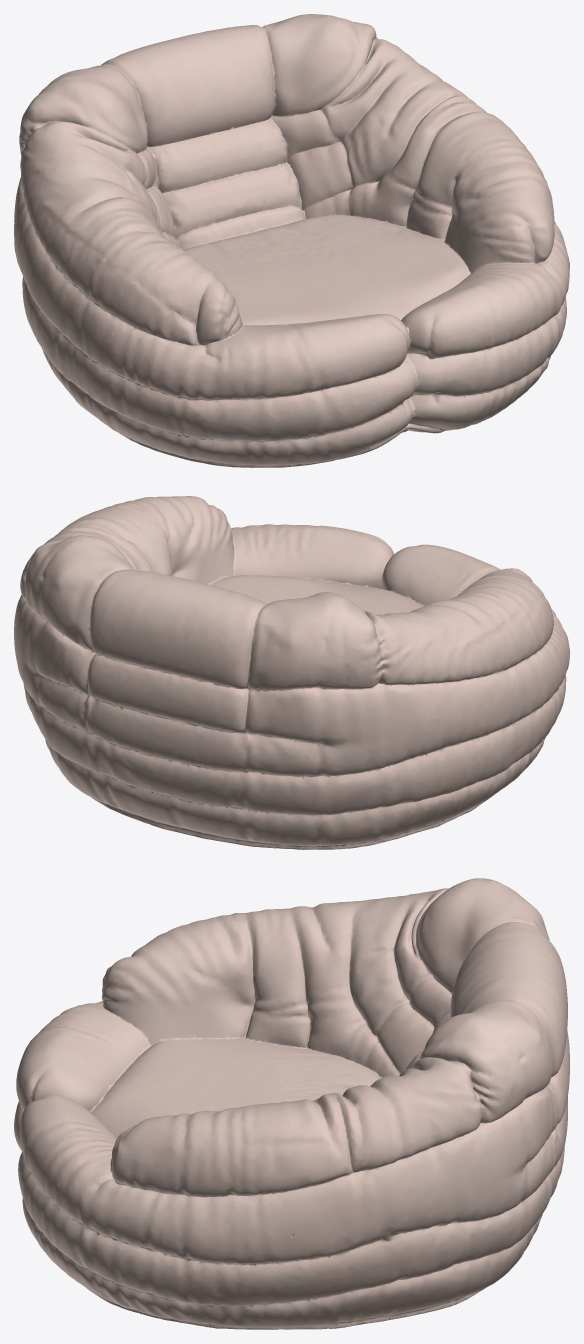
File: plush_armchair_mdswkq.glb
The picture shows the model from 3 angles, top to bottom: view 1: azimuth 30°, elevation 25°; view 2: azimuth 150°, elevation 25°; view 3: azimuth 270°, elevation 25°; orthographic projection. The views are drawn at different scales.
Visible parts, largest first — view 1: world; view 2: world; view 3: world.
Part boxes in pixels (box(x1,y1,x2,y2)): world: box(14, 14, 569, 467); world: box(14, 496, 569, 849); world: box(14, 878, 569, 1329).
Bounding box in the file's own units: 0.9944 × 0.5345 × 0.937.
1 material, 1 textured.
